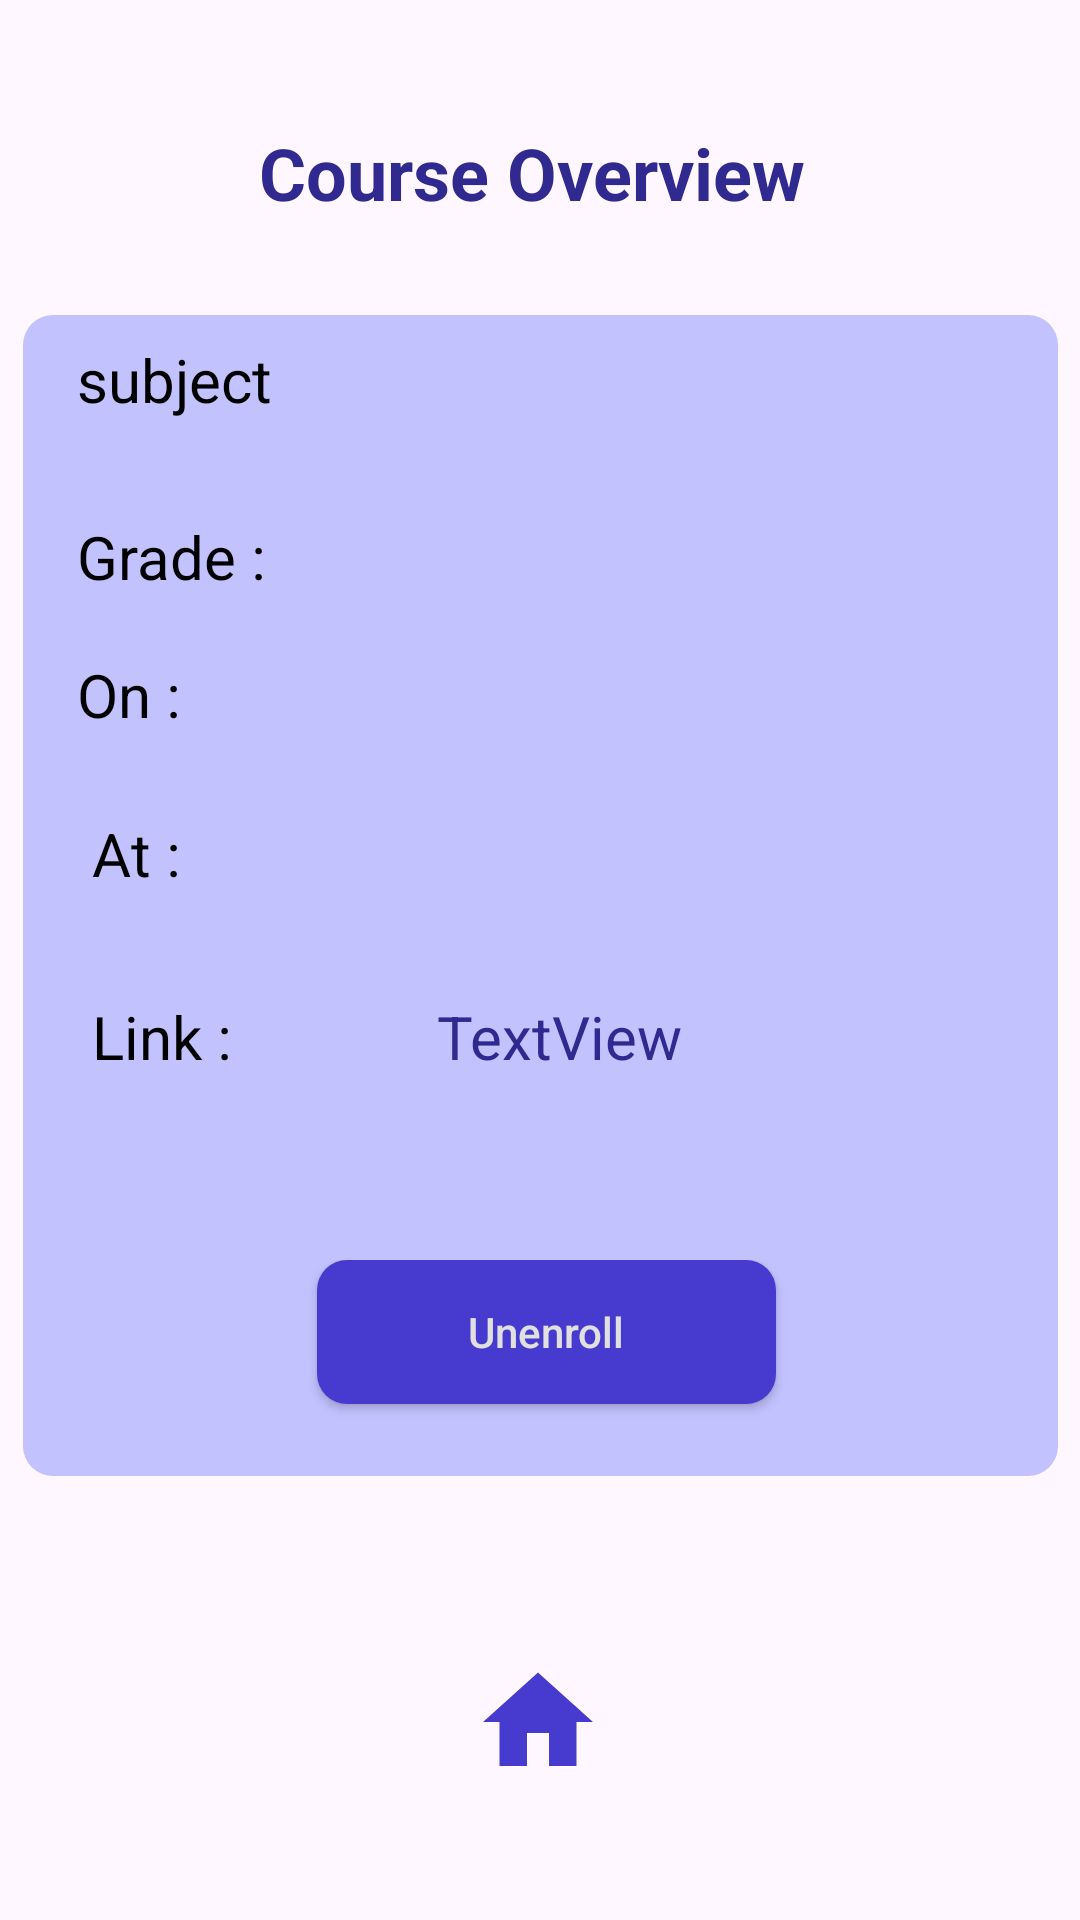

Point at icon controls on the screen. Image size 1080px×1920px, points as (x,y).
home 24home: (538,1719)
